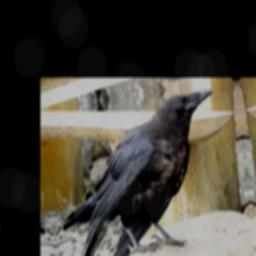Crow: (49, 86, 232, 256)
